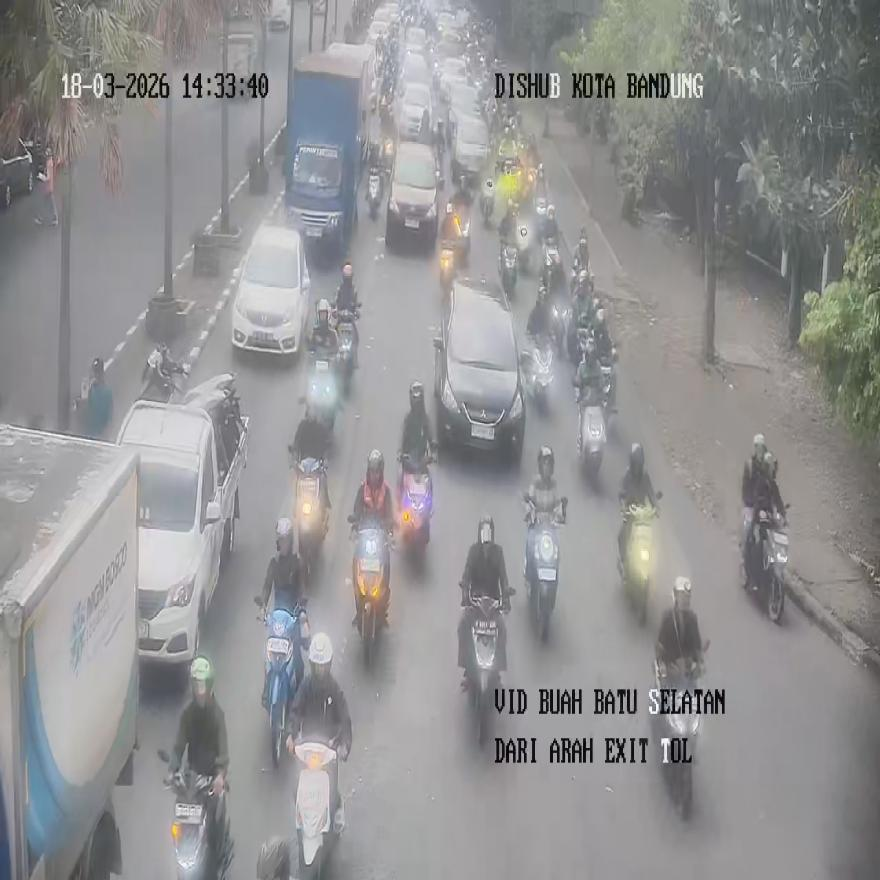Motor: (116, 374, 248, 665), (432, 276, 525, 460), (231, 224, 309, 358)
Truk: (648, 638, 708, 818), (160, 748, 233, 879), (458, 586, 513, 744), (256, 596, 307, 766), (292, 739, 342, 880), (348, 512, 392, 666), (524, 498, 564, 640), (617, 492, 660, 624), (742, 507, 788, 622), (289, 446, 328, 573), (399, 449, 433, 551), (302, 347, 339, 433), (140, 344, 189, 404), (521, 332, 554, 412), (579, 392, 606, 480), (333, 304, 359, 392), (540, 238, 563, 303), (498, 242, 517, 297), (366, 163, 382, 218), (481, 177, 495, 226)
